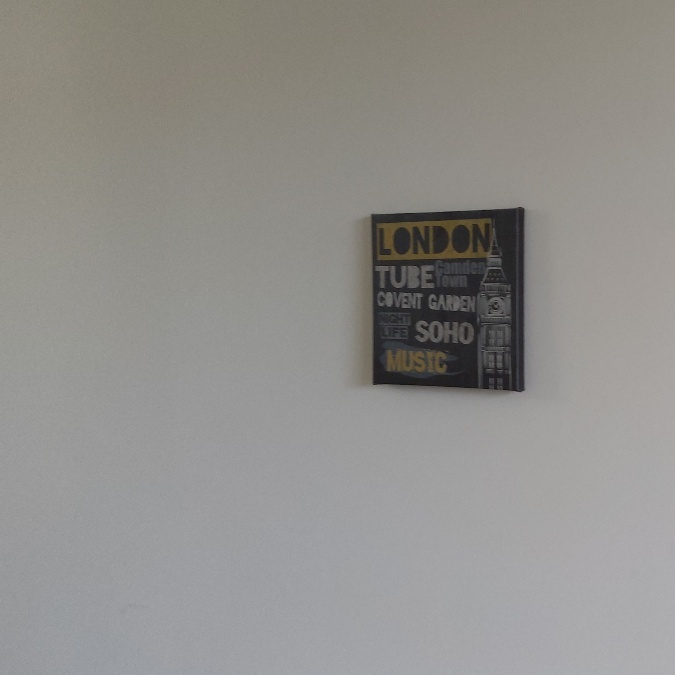poster: (364, 202, 532, 399)
